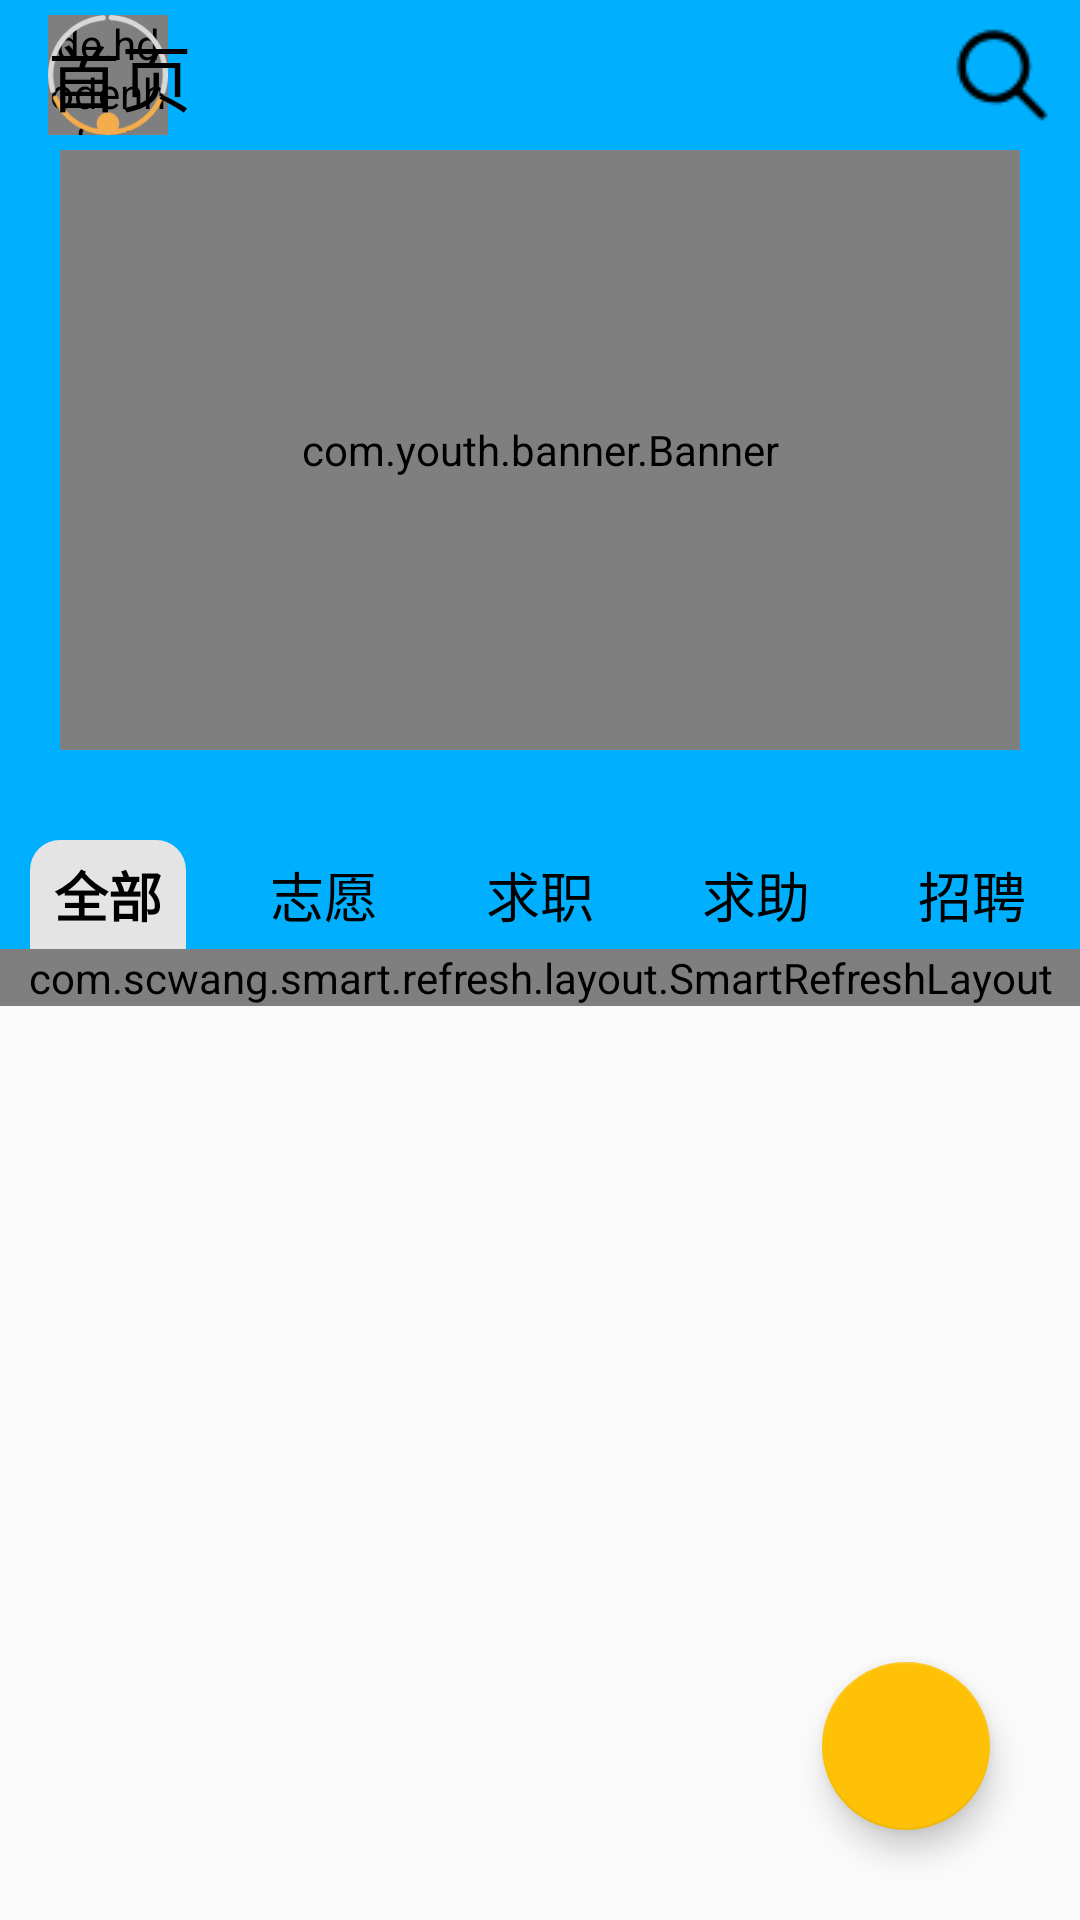

Where to tap for icons on this 1080w x 1920h app screen, as (x=x, y=y):
search: (x=1002, y=75)
